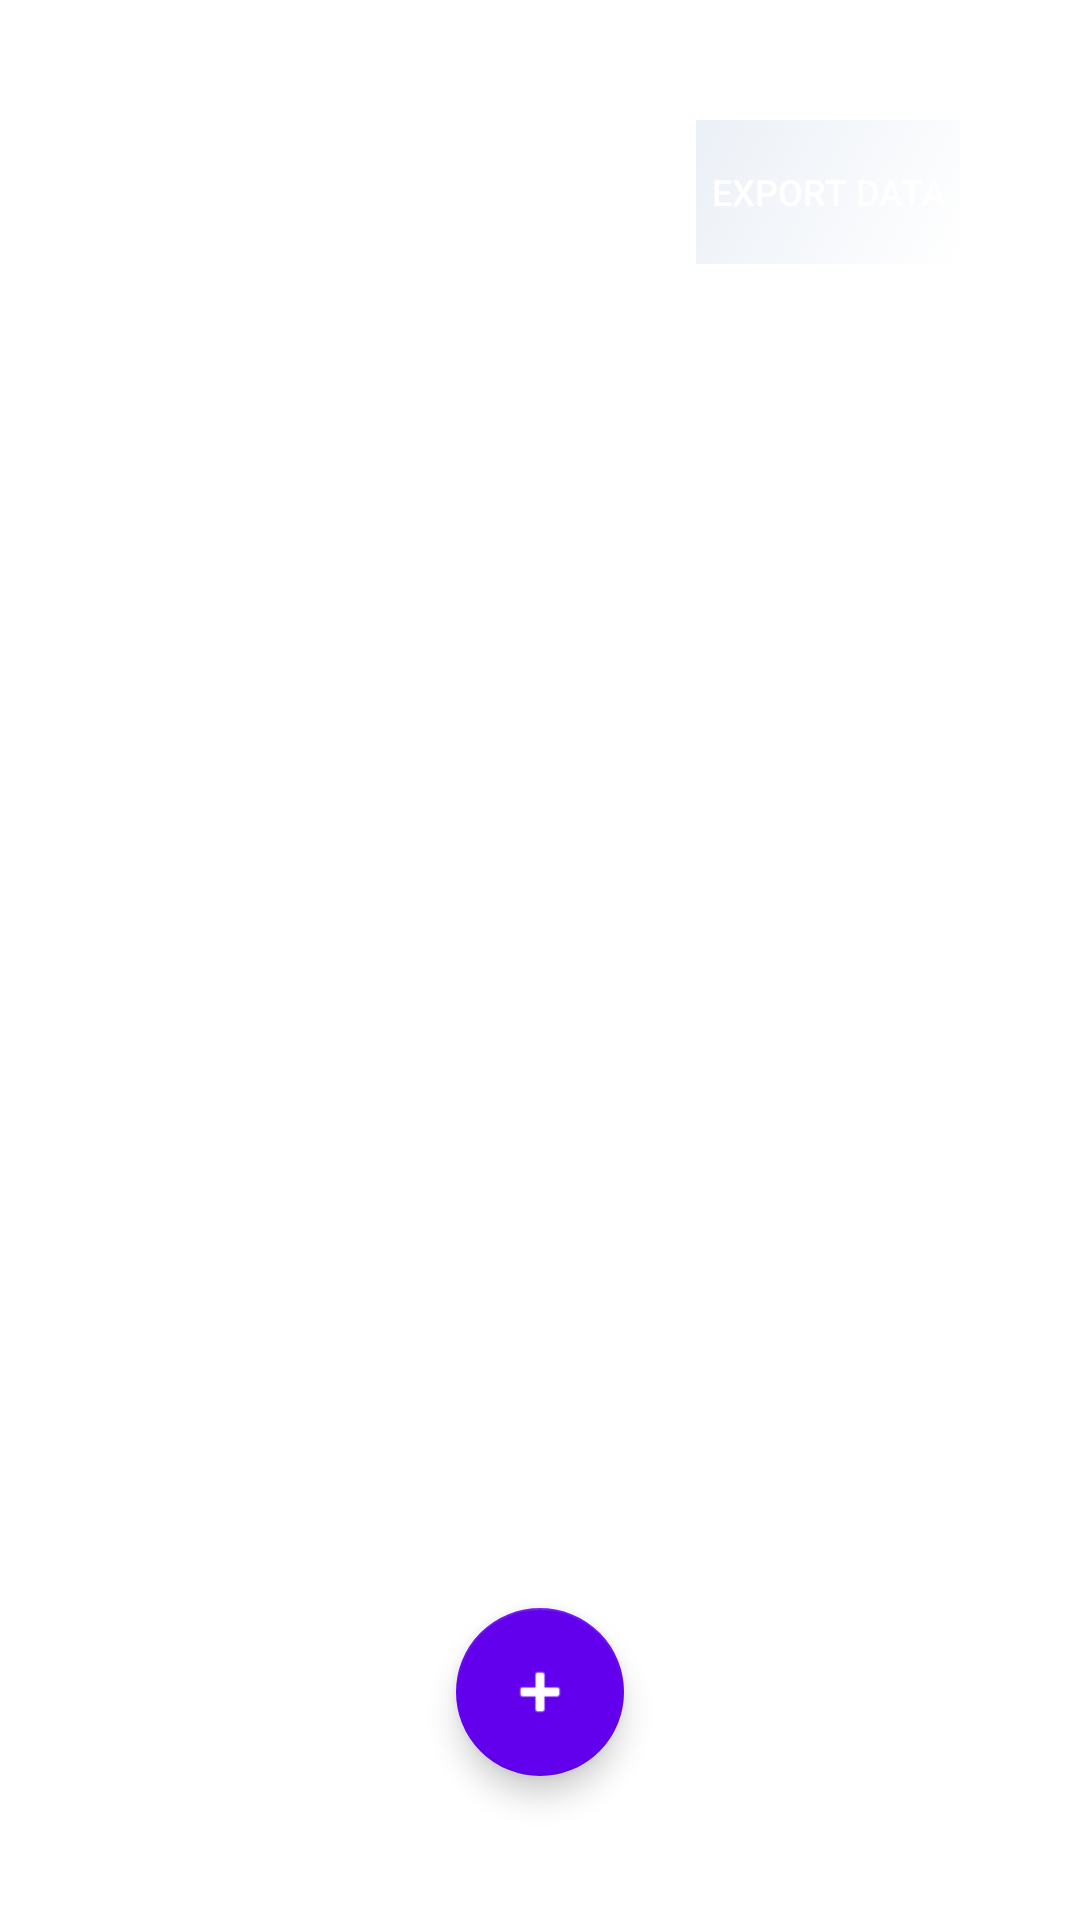

Named icons in this screenshot (1080w x 1920h) and their centers, [x,y]:
Add Subject: [540,1692]
